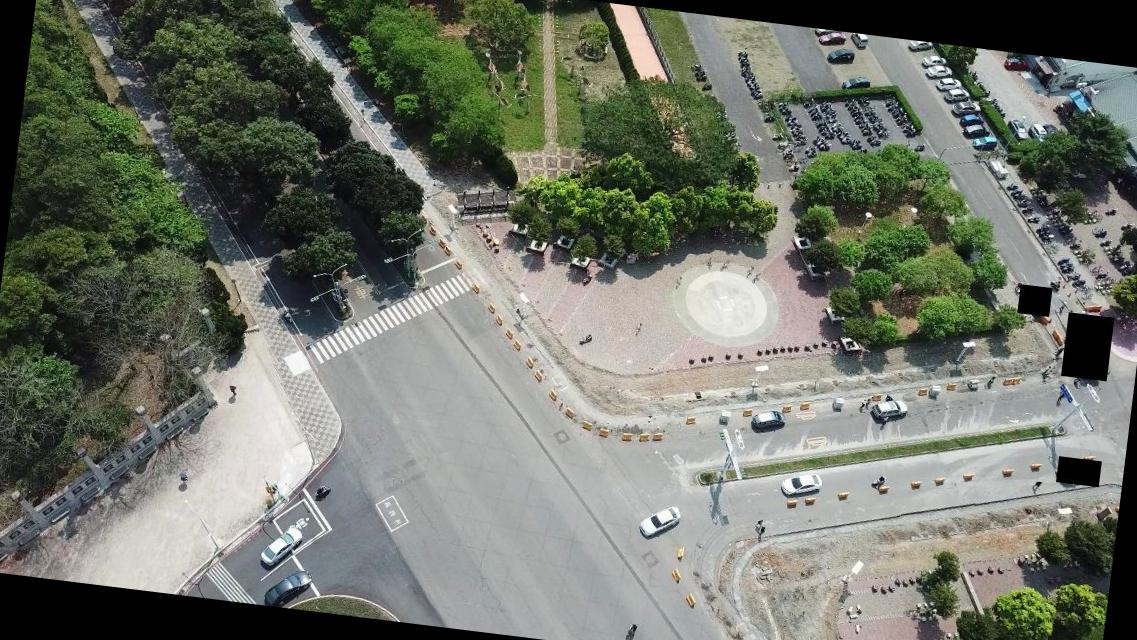vehicle: (262, 565, 312, 609), (258, 523, 303, 570), (637, 500, 681, 542), (779, 470, 822, 500), (750, 407, 787, 433), (871, 397, 908, 422), (840, 74, 872, 92), (826, 46, 856, 64), (816, 30, 846, 48), (942, 85, 970, 104), (934, 75, 962, 93), (962, 123, 991, 140), (971, 133, 998, 151), (1003, 54, 1030, 72), (1026, 122, 1048, 144), (1006, 119, 1028, 141), (952, 98, 980, 115), (958, 111, 985, 128), (920, 53, 947, 69), (925, 64, 952, 80), (906, 40, 933, 53), (848, 33, 867, 48)
